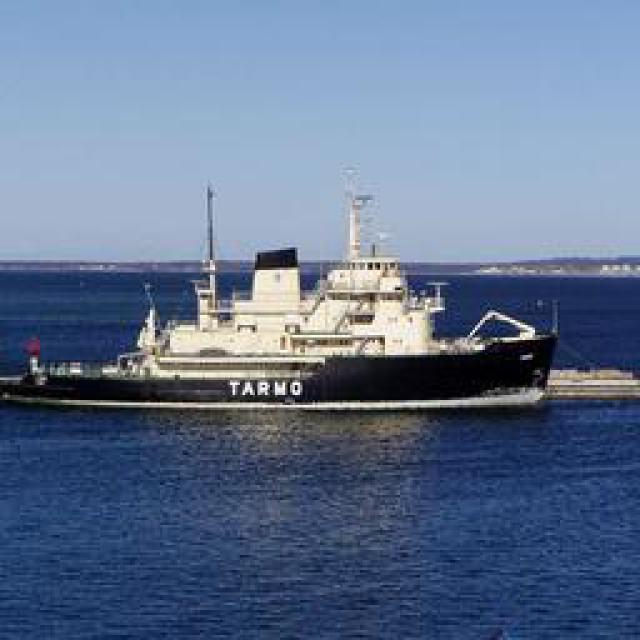Ship: (12, 310, 562, 408)
